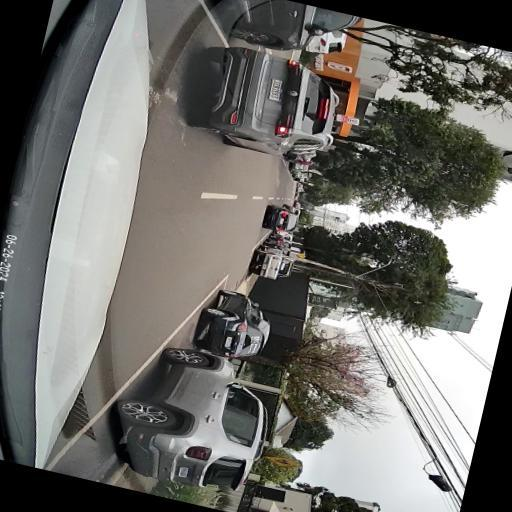A-14: (296, 252, 305, 258)
R-6b: (346, 118, 356, 124)
